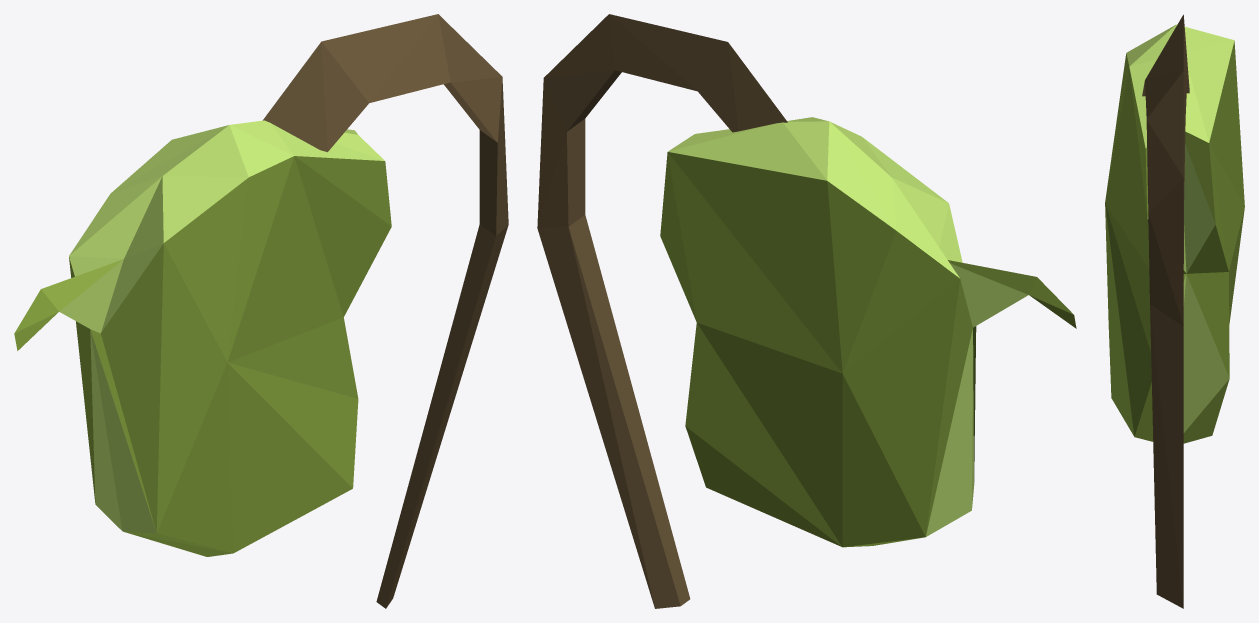
File: Beans_1.fbx
3 views of the same model, side by side, from view 1: azimuth 30°, elevation 25°; view 2: azimuth 150°, elevation 25°; view 3: azimuth 270°, elevation 25° (orthographic). The views are drawn at different scales.
Visible parts, largest first — view 1: Beans_2; view 2: Beans_2; view 3: Beans_2.
Boxes of the visible parts, x1=… form: Beans_2: x1=14, y1=14, x2=508, y2=608; Beans_2: x1=537, y1=14, x2=1076, y2=608; Beans_2: x1=1105, y1=14, x2=1244, y2=608.
Size of the model in its own units: 14.12 by 15.17 by 3.43.
